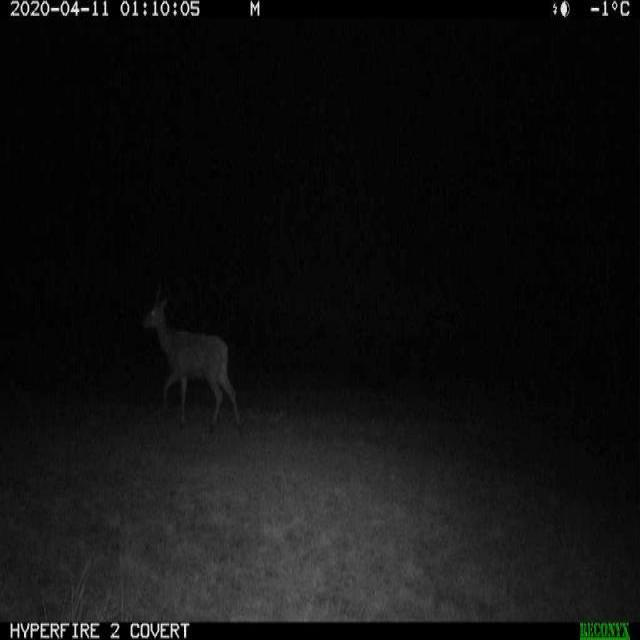deer: (130, 271, 244, 446), (17, 277, 108, 432)
